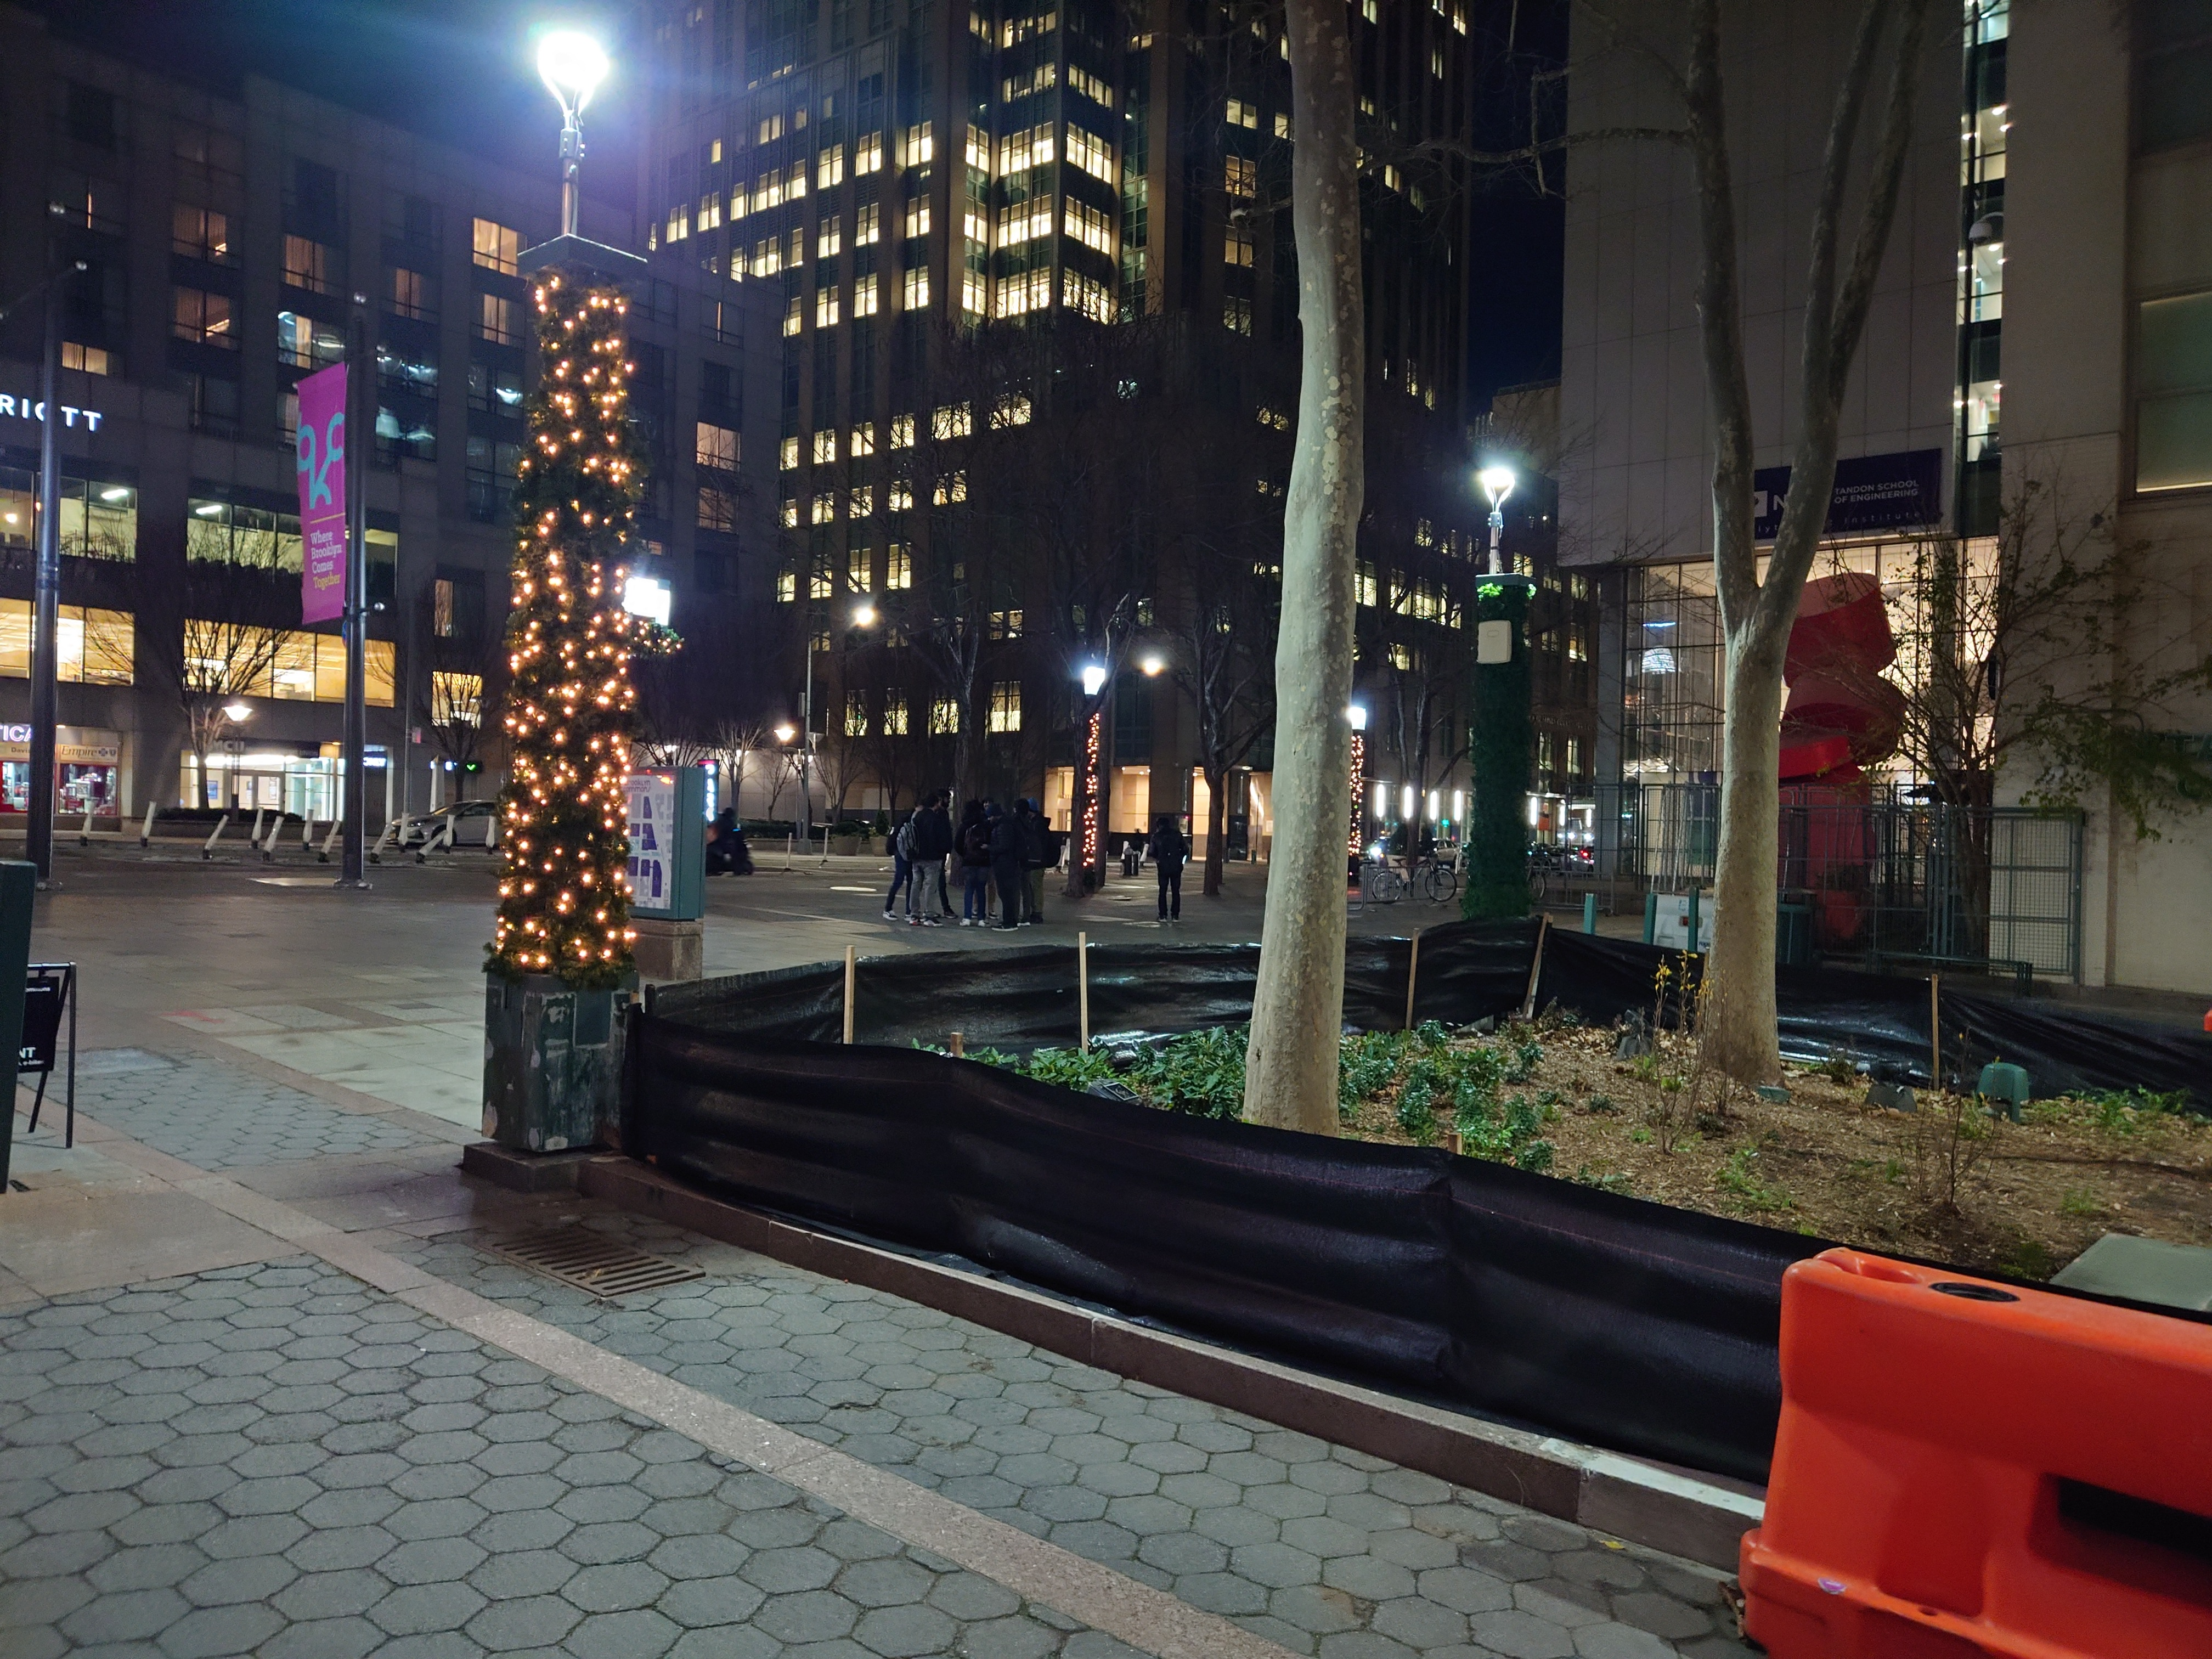car: (394, 800, 504, 855)
person: (913, 795, 950, 931), (988, 805, 1023, 929), (1019, 802, 1053, 926), (957, 800, 991, 927), (1152, 816, 1187, 923)
